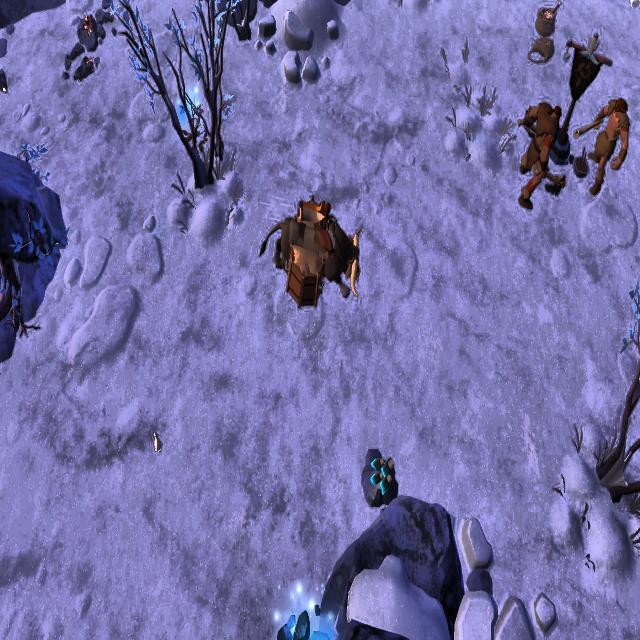enemy_factionKeeper: (577, 90, 632, 199), (517, 98, 563, 217)
ore_t4: (368, 450, 397, 496)
